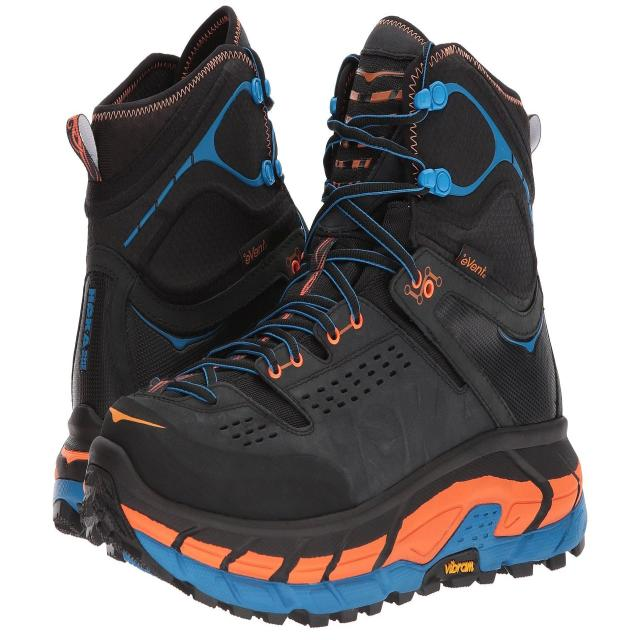boot: (83, 14, 608, 632)
